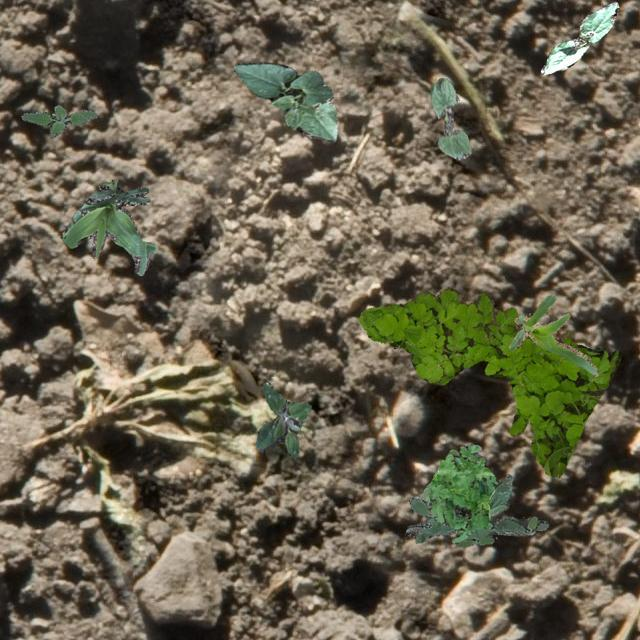crop: (60, 178, 156, 274), (232, 62, 336, 142), (507, 294, 597, 374), (540, 1, 618, 74), (430, 76, 470, 160)
weed: (358, 286, 620, 477), (404, 474, 548, 546), (427, 442, 498, 542), (254, 382, 310, 456), (20, 104, 96, 136), (422, 448, 458, 498)
